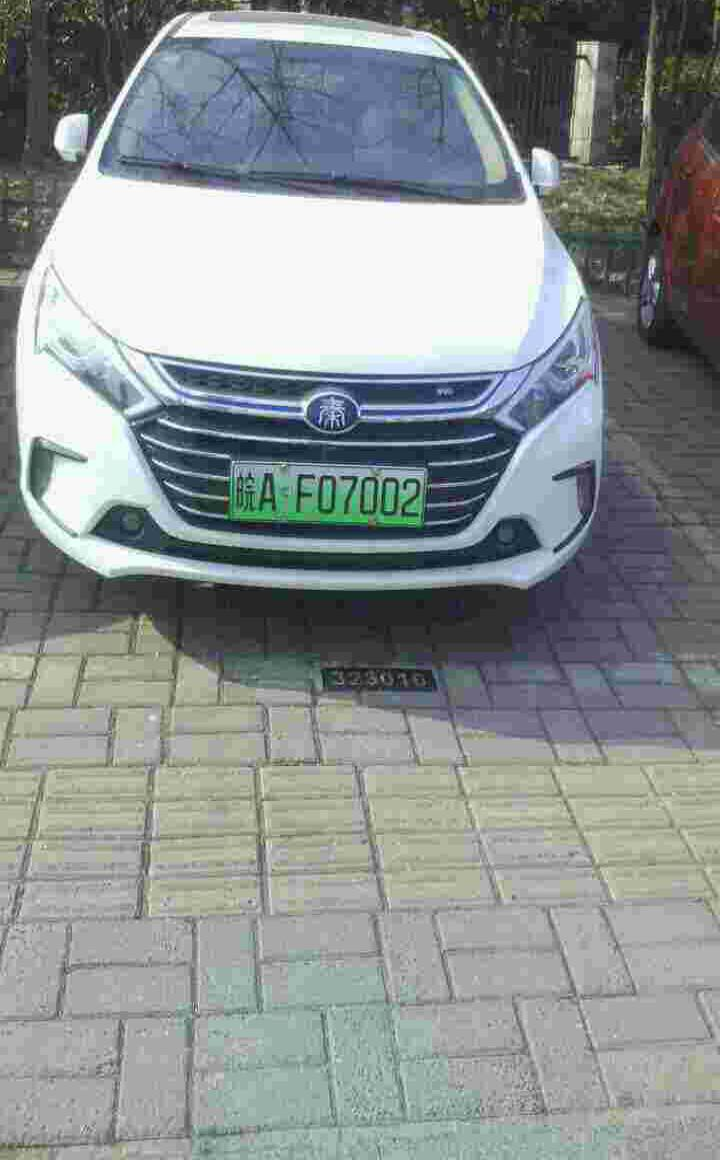car_green: (225, 461, 429, 528)
